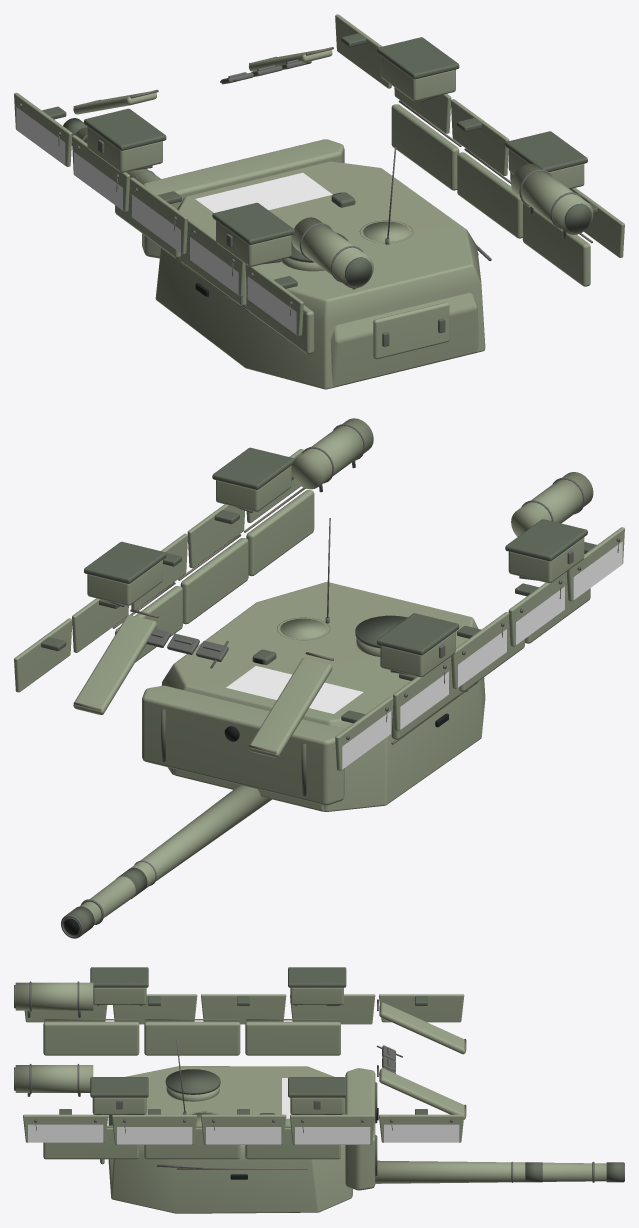
The model's file is t34-custom-parts.glb.
The picture shows the model from 3 angles, top to bottom: view 1: azimuth 30°, elevation 25°; view 2: azimuth 150°, elevation 25°; view 3: azimuth 270°, elevation 25°; orthographic projection. The views are drawn at different scales.
Visible parts, largest first — view 1: Box_turret_closed_armor, HullArmored_RolledSteel_OlivePaint_PBR, SideSkirts_RolledSteel_OlivePaint_PBR, StorageBoxes_PaintedSteel_DarkerEdges, Angled_turret_closed_armor, StorageBoxes_RolledSteel_OlivePaint_PBR, SideSkirts_Dust_SoftDecal, FuelTanks_RolledSteel_OlivePaint_PBR, MultiGun_cast_mantlet_shield, TurretAngled_CastTurret_PebbledOlive_PBR, Box_Roof_weathering, FuelTanks_PaintedSteel_DarkerEdges (+4 smaller); view 2: Box_turret_closed_armor, HullArmored_RolledSteel_OlivePaint_PBR, MultiGun_cast_mantlet_shield, SideSkirts_RolledSteel_OlivePaint_PBR, StorageBoxes_PaintedSteel_DarkerEdges, StorageBoxes_RolledSteel_OlivePaint_PBR, SideSkirts_Dust_SoftDecal, FuelTanks_RolledSteel_OlivePaint_PBR, Long_Forged_taper, Box_Roof_weathering, SideSkirts_PaintedSteel_DarkerEdges, TurretAngled_PaintedSteel_DarkerEdges (+4 smaller); view 3: HullArmored_RolledSteel_OlivePaint_PBR, Box_turret_closed_armor, SideSkirts_RolledSteel_OlivePaint_PBR, SideSkirts_Dust_SoftDecal, StorageBoxes_PaintedSteel_DarkerEdges, Long_Forged_taper, FuelTanks_RolledSteel_OlivePaint_PBR, StorageBoxes_RolledSteel_OlivePaint_PBR, MultiGun_cast_mantlet_shield, TurretAngled_PaintedSteel_DarkerEdges, HullArmored_ExposedWeldMetal, SideSkirts_PaintedSteel_DarkerEdges (+4 smaller).
Boxes of the visible parts, x1=… form: Box_turret_closed_armor: x1=155, y1=161, x2=485, y2=389; HullArmored_RolledSteel_OlivePaint_PBR: x1=73, y1=49, x2=590, y2=353; SideSkirts_RolledSteel_OlivePaint_PBR: x1=14, y1=14, x2=624, y2=336; StorageBoxes_PaintedSteel_DarkerEdges: x1=84, y1=37, x2=587, y2=244; Angled_turret_closed_armor: x1=330, y1=293, x2=478, y2=386; StorageBoxes_RolledSteel_OlivePaint_PBR: x1=87, y1=55, x2=584, y2=266; SideSkirts_Dust_SoftDecal: x1=16, y1=107, x2=296, y2=334; FuelTanks_RolledSteel_OlivePaint_PBR: x1=291, y1=163, x2=593, y2=288; MultiGun_cast_mantlet_shield: x1=142, y1=139, x2=344, y2=258; TurretAngled_CastTurret_PebbledOlive_PBR: x1=281, y1=221, x2=449, y2=359; Box_Roof_weathering: x1=195, y1=172, x2=332, y2=212; FuelTanks_PaintedSteel_DarkerEdges: x1=345, y1=203, x2=591, y2=286; Box_turret_closed_armor: x1=161, y1=582, x2=485, y2=811; HullArmored_RolledSteel_OlivePaint_PBR: x1=73, y1=490, x2=590, y2=757; MultiGun_cast_mantlet_shield: x1=142, y1=685, x2=344, y2=805; SideSkirts_RolledSteel_OlivePaint_PBR: x1=14, y1=449, x2=624, y2=770; StorageBoxes_PaintedSteel_DarkerEdges: x1=84, y1=447, x2=587, y2=655; StorageBoxes_RolledSteel_OlivePaint_PBR: x1=87, y1=465, x2=584, y2=677; SideSkirts_Dust_SoftDecal: x1=342, y1=541, x2=622, y2=769; FuelTanks_RolledSteel_OlivePaint_PBR: x1=291, y1=418, x2=593, y2=536; Long_Forged_taper: x1=80, y1=785, x2=271, y2=924; Box_Roof_weathering: x1=226, y1=666, x2=363, y2=713; SideSkirts_PaintedSteel_DarkerEdges: x1=41, y1=472, x2=596, y2=723; TurretAngled_PaintedSteel_DarkerEdges: x1=252, y1=615, x2=407, y2=664; HullArmored_RolledSteel_OlivePaint_PBR: x1=43, y1=1002, x2=466, y2=1159; Box_turret_closed_armor: x1=111, y1=1066, x2=351, y2=1213; SideSkirts_RolledSteel_OlivePaint_PBR: x1=23, y1=994, x2=464, y2=1144; SideSkirts_Dust_SoftDecal: x1=28, y1=1124, x2=459, y2=1144; StorageBoxes_PaintedSteel_DarkerEdges: x1=90, y1=967, x2=346, y2=1097; Long_Forged_taper: x1=375, y1=1160, x2=606, y2=1183; FuelTanks_RolledSteel_OlivePaint_PBR: x1=15, y1=982, x2=93, y2=1092; StorageBoxes_RolledSteel_OlivePaint_PBR: x1=92, y1=987, x2=343, y2=1114; MultiGun_cast_mantlet_shield: x1=345, y1=1068, x2=375, y2=1190; TurretAngled_PaintedSteel_DarkerEdges: x1=165, y1=1069, x2=275, y2=1114; HullArmored_ExposedWeldMetal: x1=44, y1=999, x2=466, y2=1127; SideSkirts_PaintedSteel_DarkerEdges: x1=59, y1=996, x2=427, y2=1114.
Size of the model in its own units: 3.57 by 2.14 by 7.14.
